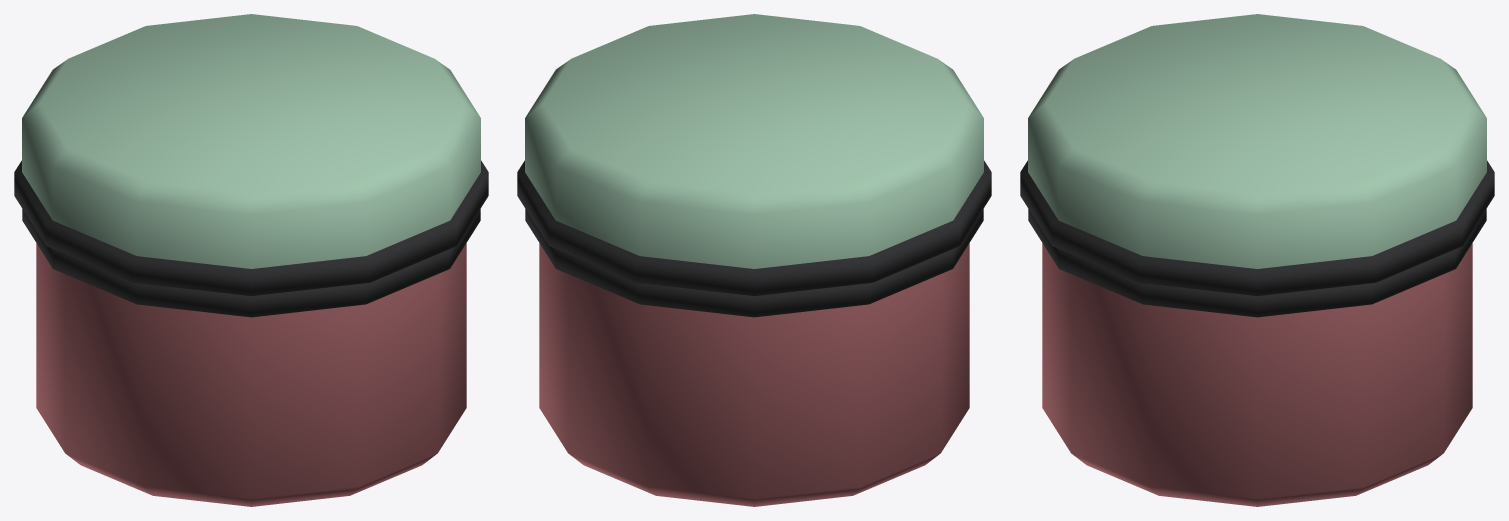
Rendered from jar.fbx.
The picture shows the model from 3 angles, left to right: view 1: azimuth 30°, elevation 25°; view 2: azimuth 150°, elevation 25°; view 3: azimuth 270°, elevation 25°; orthographic projection.
Parts seen in each view (by area): view 1: jar; view 2: jar; view 3: jar.
Boxes of the visible parts, x1,y1,x2,y2 form: jar: [14, 14, 488, 506]; jar: [517, 14, 991, 506]; jar: [1020, 14, 1494, 506].
Size of the model in its own units: 2.2 by 2.2 by 1.64.
